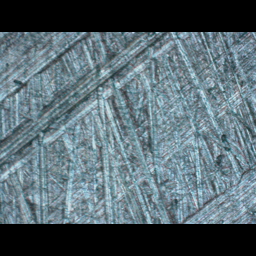d: (0, 31, 189, 189), (176, 164, 255, 223)
